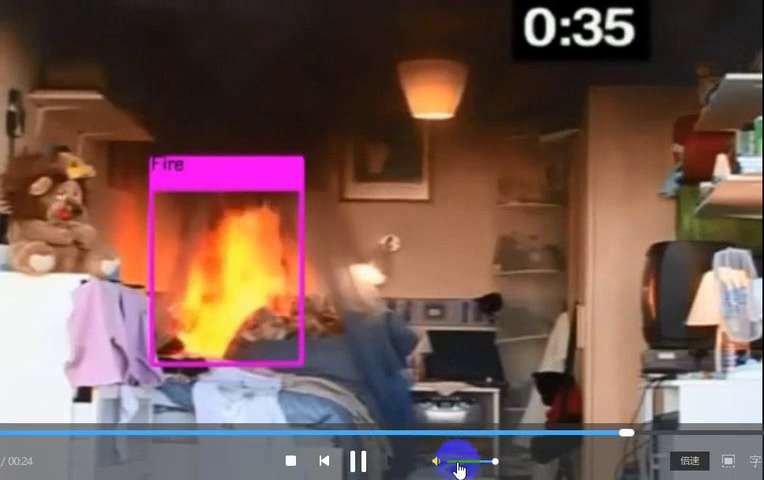fire: (159, 195, 290, 359)
